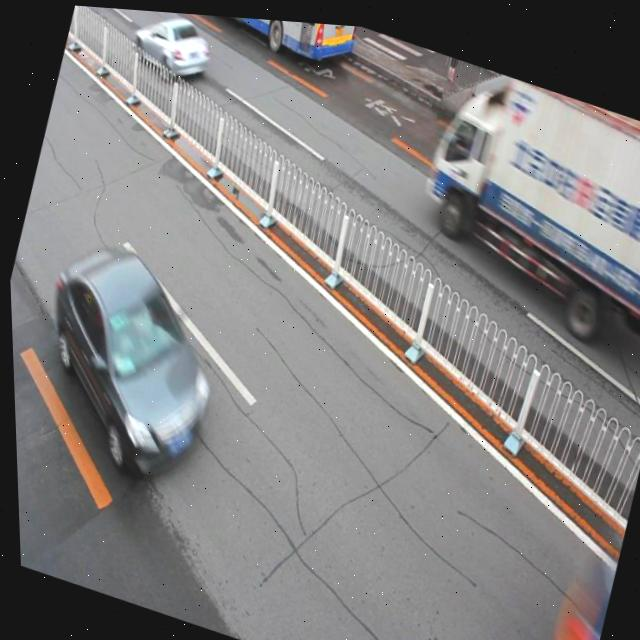bus: (396, 48, 640, 357)
car: (14, 226, 234, 479), (529, 526, 620, 640), (125, 7, 217, 87)
van: (142, 8, 357, 67)
